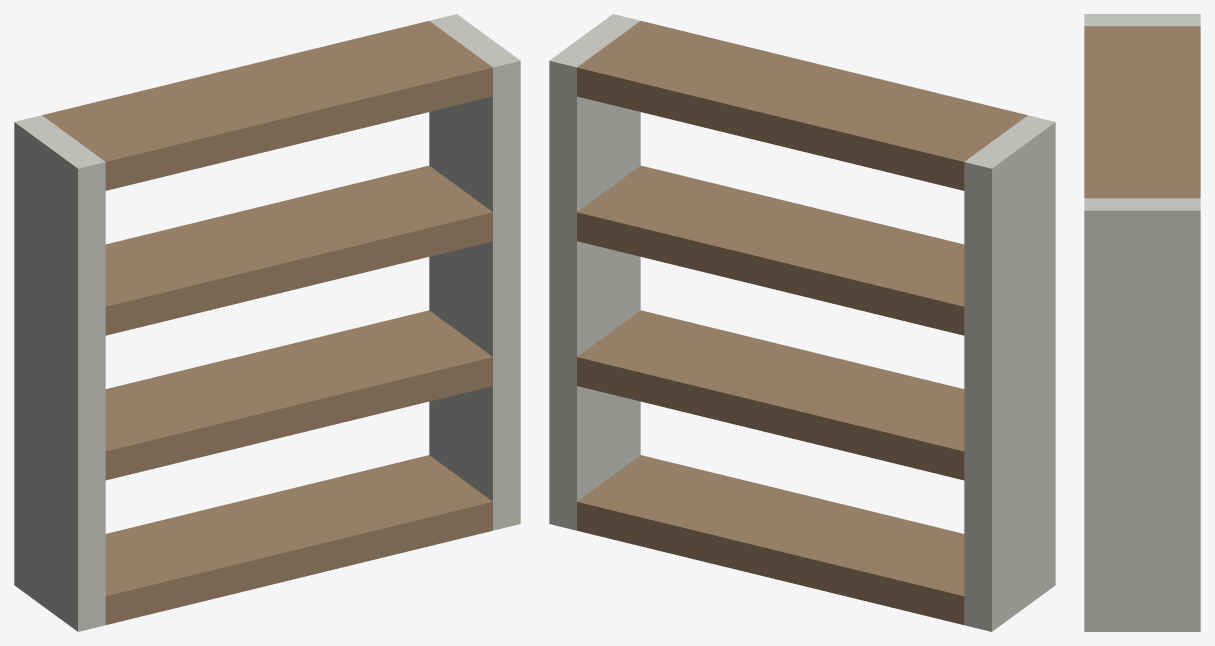
Rendered from kit_int_shelves.glb.
3 renders of one model, left to right at view 1: azimuth 30°, elevation 25°; view 2: azimuth 150°, elevation 25°; view 3: azimuth 270°, elevation 25°, orthographic. The views are drawn at different scales.
Visible parts, largest first — view 1: kit_int_shelves-col; view 2: kit_int_shelves-col; view 3: kit_int_shelves-col.
Boxes of the visible parts, x1,y1,x2,y2 form: kit_int_shelves-col: (14, 14, 520, 631); kit_int_shelves-col: (549, 14, 1055, 631); kit_int_shelves-col: (1084, 14, 1200, 631).
Bounding box in the file's own units: 2 × 2 × 0.5.
